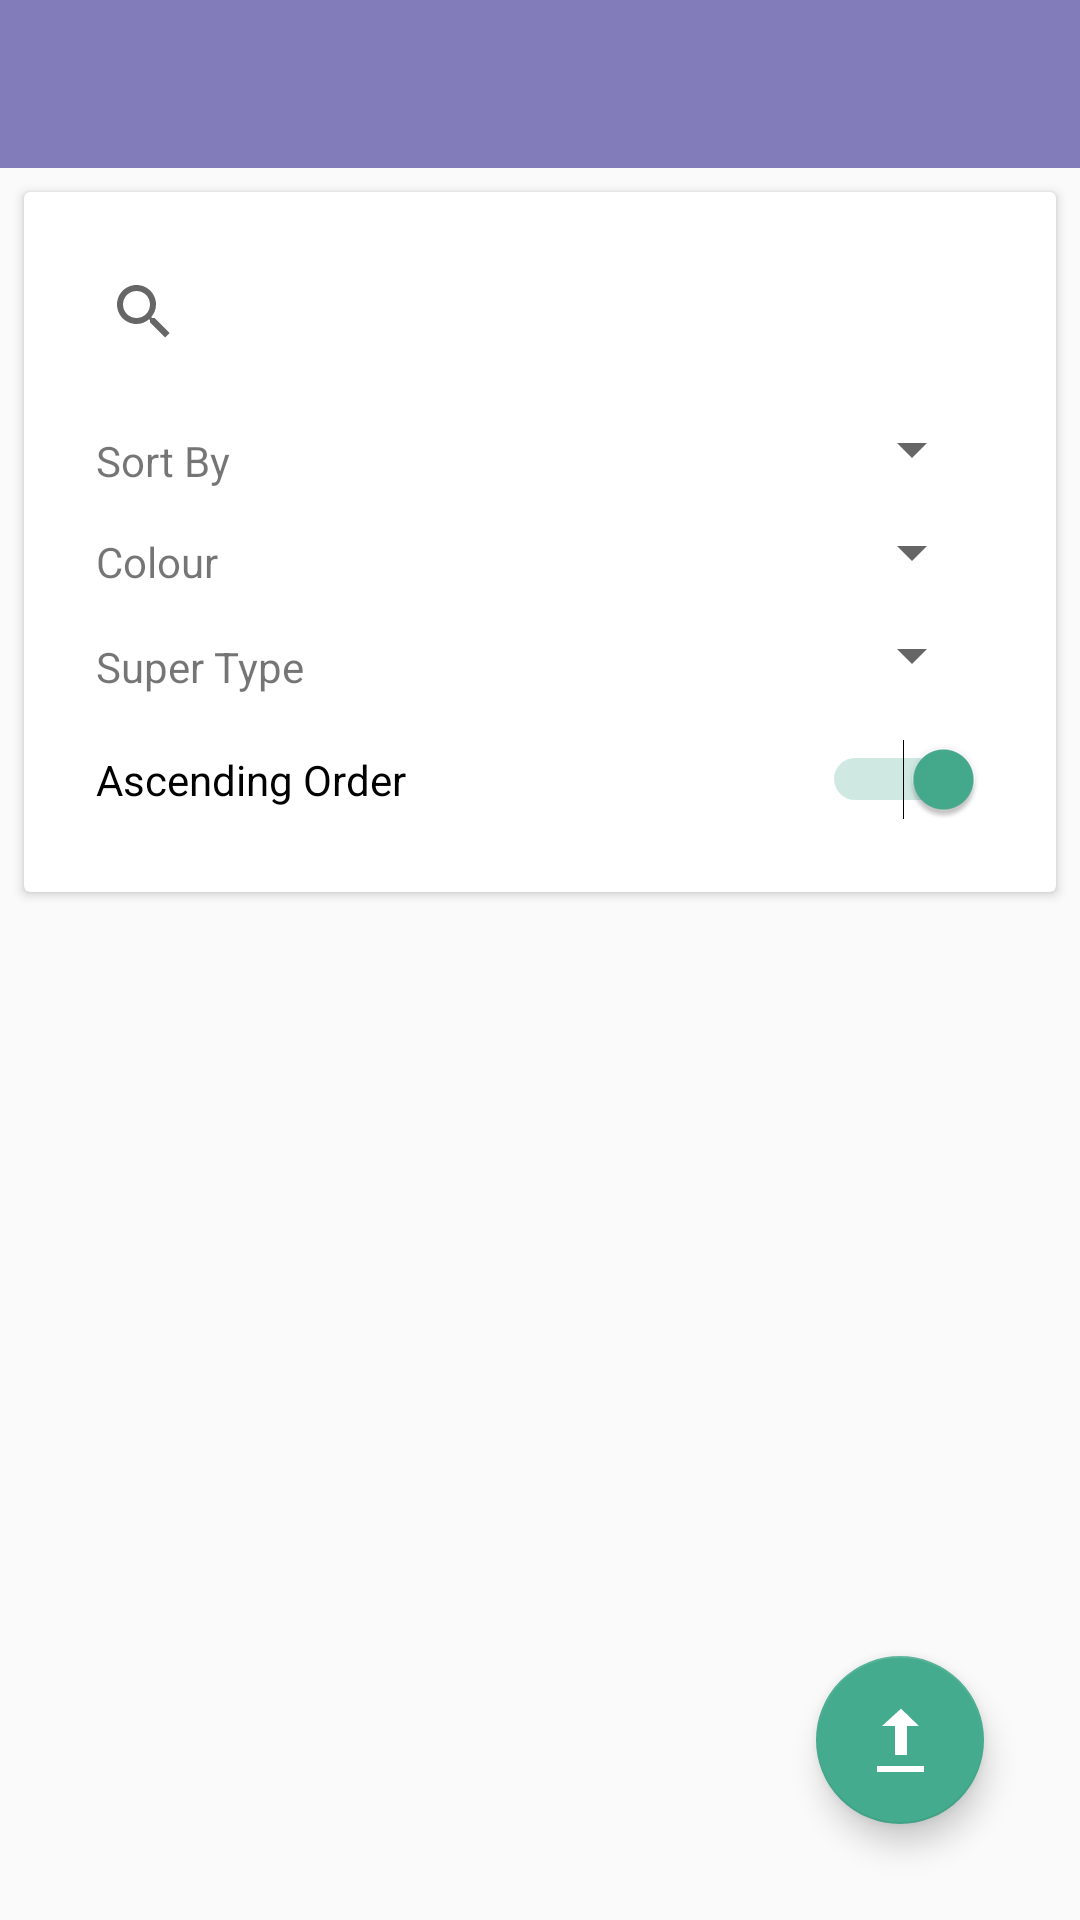

Icons on this 1080*1920 Android screen, each with its box as (x1, y1, x2, y2):
Scroll to top of page: (816, 1656, 984, 1824)
